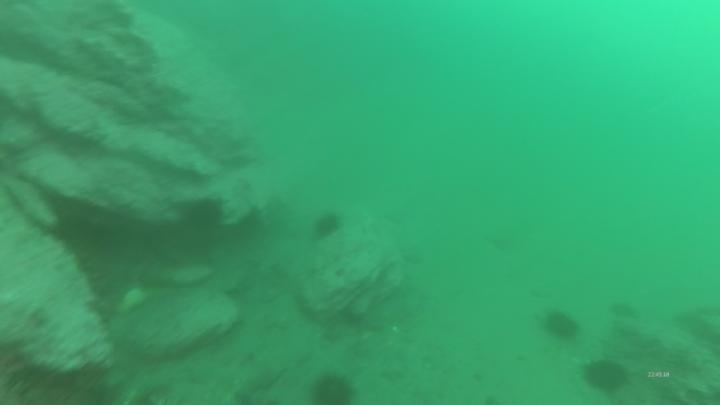echinus: (579, 355, 631, 397), (180, 194, 227, 236), (308, 370, 359, 404), (540, 307, 582, 343), (310, 209, 344, 242)
